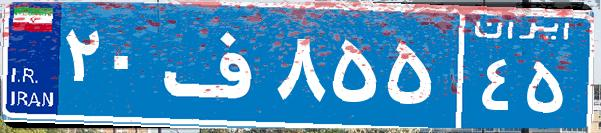0: (110, 28, 158, 105)
2: (57, 26, 110, 107)
4: (475, 38, 525, 113)
5: (385, 28, 445, 110), (330, 28, 385, 110), (525, 38, 570, 115)
8: (273, 28, 330, 110)
ف: (158, 15, 273, 115)
